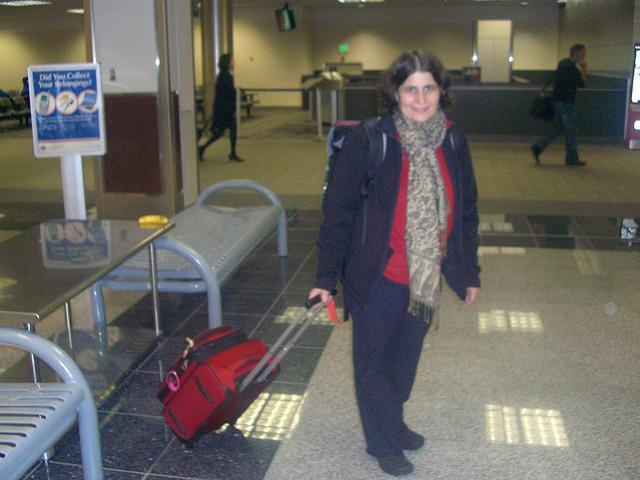person: (306, 45, 482, 476), (525, 42, 598, 171), (198, 54, 249, 169)
